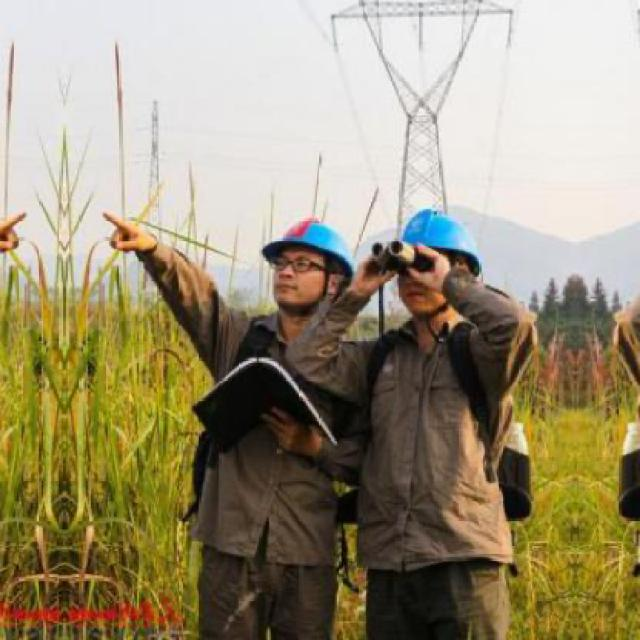con casco: (355, 191, 507, 357), (218, 186, 374, 340)
